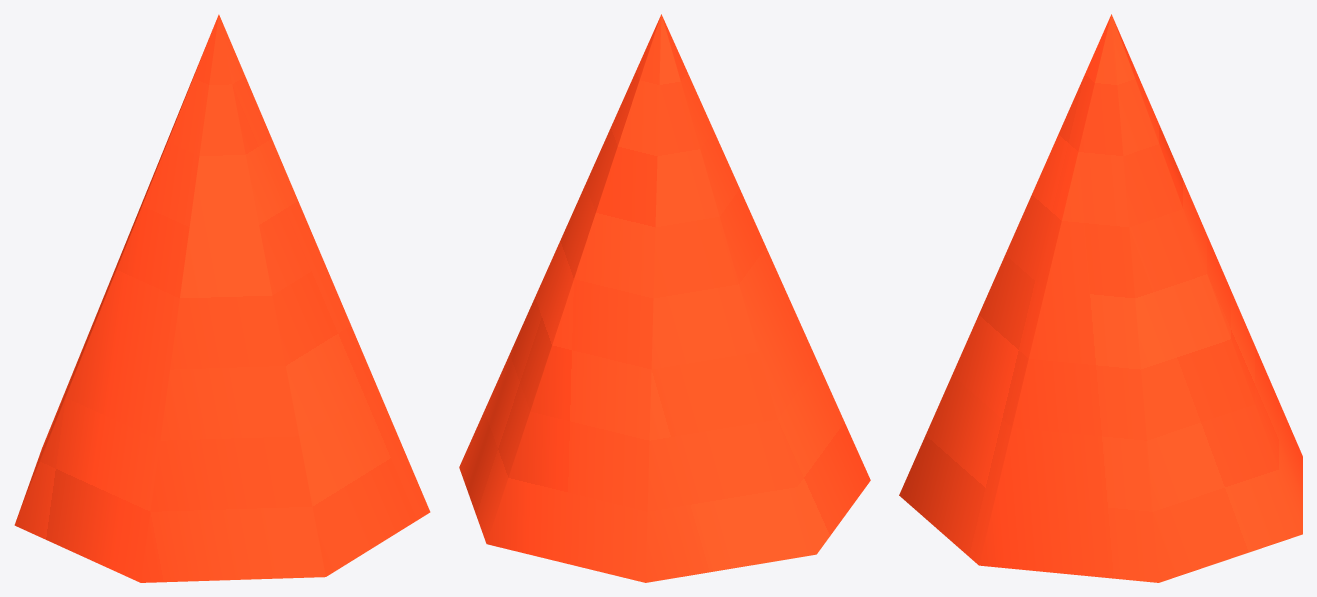
File: fuego.glb
The picture shows the model from 3 angles, left to right: view 1: azimuth 30°, elevation 25°; view 2: azimuth 150°, elevation 25°; view 3: azimuth 270°, elevation 25°; orthographic projection.
Visible parts, largest first — view 1: fuego; view 2: fuego; view 3: fuego.
Part boxes in pixels (<box>): fuego: <box>14,14,430,582</box>; fuego: <box>459,14,870,582</box>; fuego: <box>899,14,1302,582</box>.
Bounding box in the file's own units: 0.624 × 0.8 × 0.6083.
Materials: 2 (2 with a texture image).
